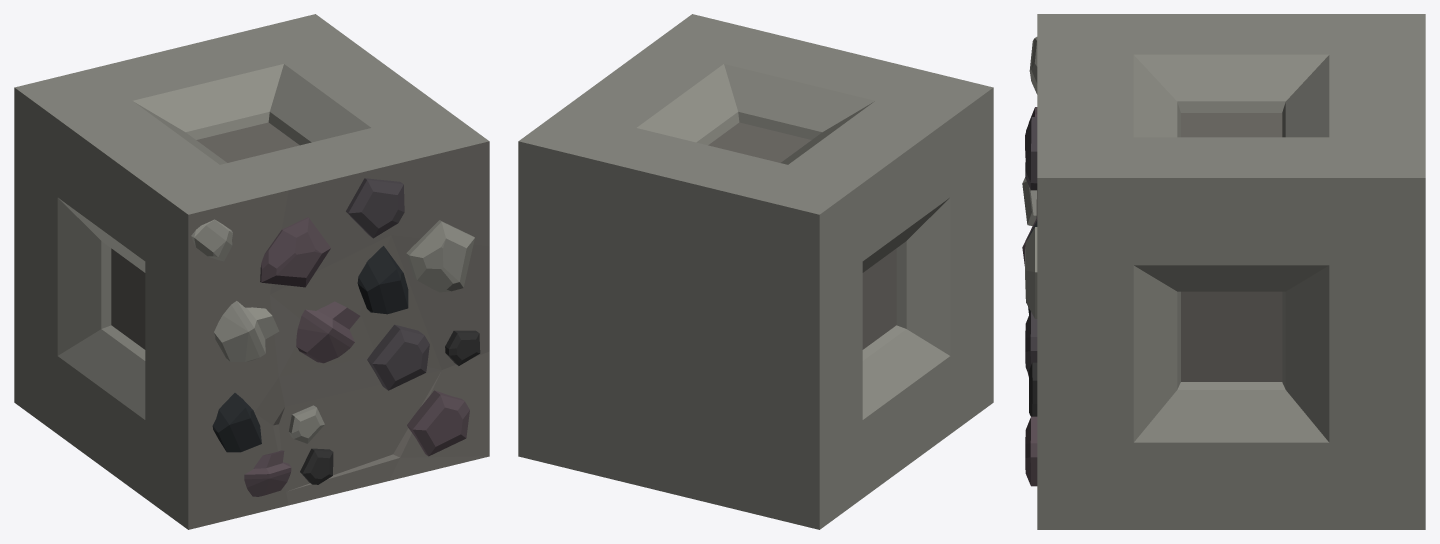
The picture shows the model from 3 angles, left to right: view 1: azimuth 30°, elevation 25°; view 2: azimuth 150°, elevation 25°; view 3: azimuth 270°, elevation 25°; orthographic projection. The views are drawn at different scales.
Visible parts, largest first — view 1: Cube.004; view 2: Cube.004; view 3: Cube.004.
Boxes of the visible parts, left/top/right/bottom form: Cube.004: left=14, top=14, right=489, bottom=529; Cube.004: left=518, top=14, right=993, bottom=529; Cube.004: left=1022, top=14, right=1425, bottom=529.
Size of the model in its own units: 1 by 1 by 1.04.
Materials: 1 (1 with a texture image).
